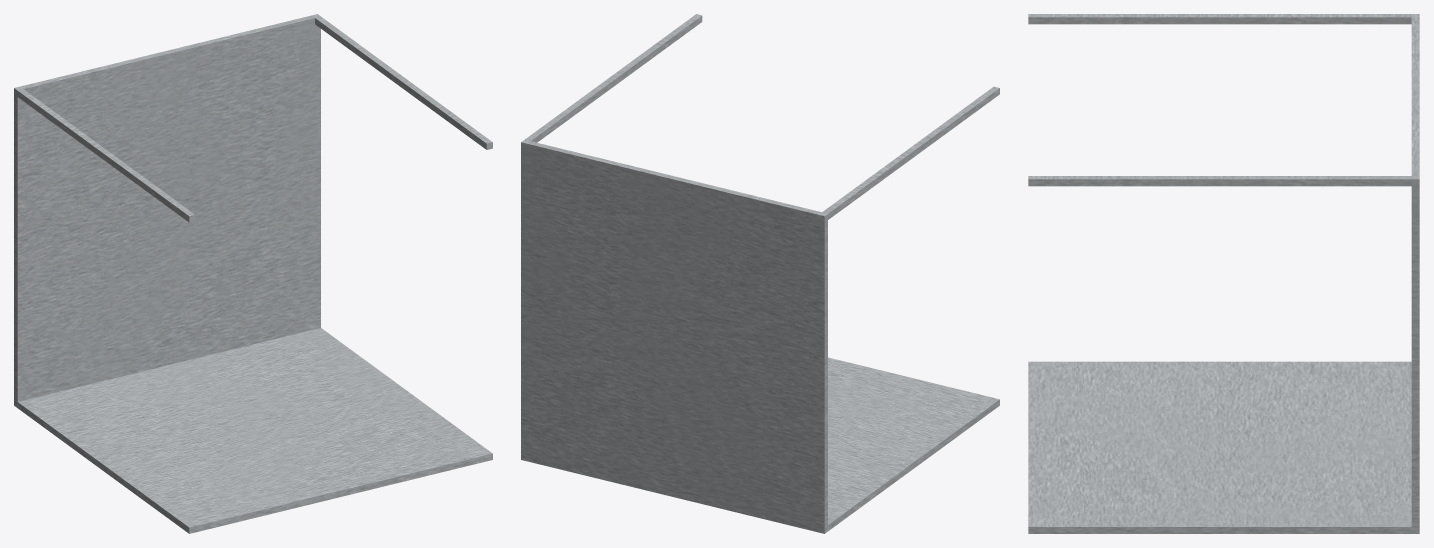
The model's file is Duct_NEW_1m.gltf.
3 renders of one model, left to right at view 1: azimuth 30°, elevation 25°; view 2: azimuth 150°, elevation 25°; view 3: azimuth 270°, elevation 25°, orthographic. The views are drawn at different scales.
Visible parts, largest first — view 1: root; view 2: root; view 3: root.
Part boxes in pixels (x1,y1,x2,y2): root: (14,14,492,533); root: (521,14,999,533); root: (1028,14,1419,533).
Size of the model in its own units: 1 by 1 by 1.
Materials: 1 (1 with a texture image).
